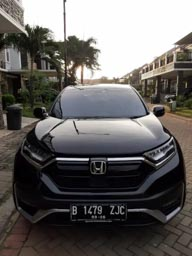plat: (68, 205, 127, 216)
